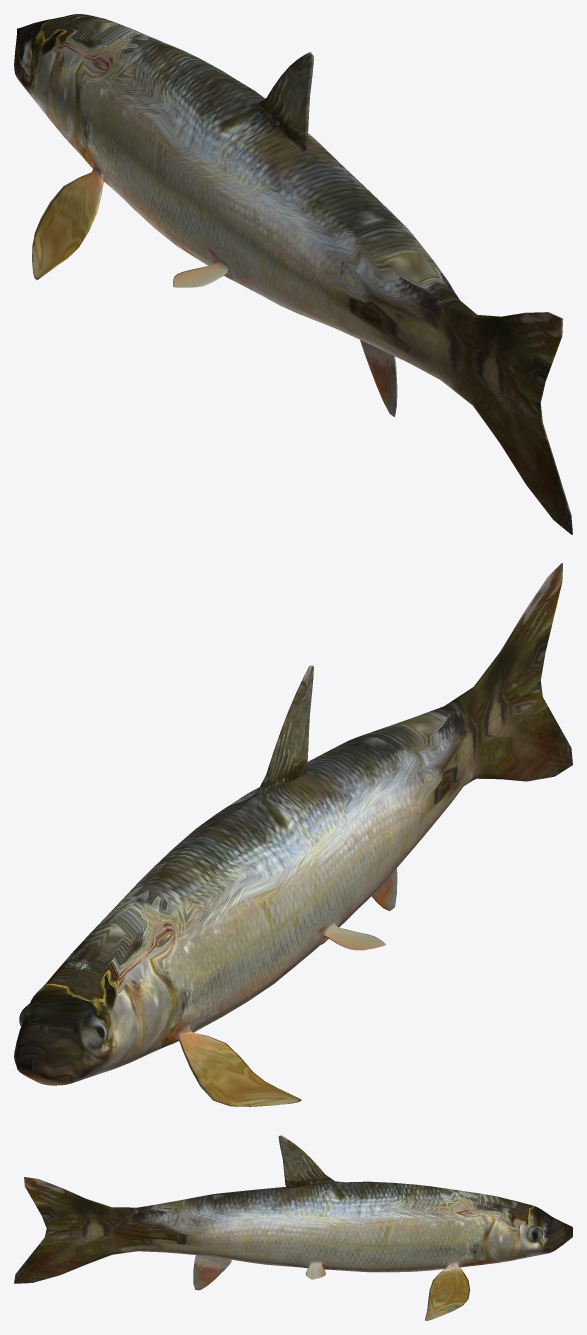
The model's file is ugui_model.fbx.
3 renders of one model, top to bottom at view 1: azimuth 30°, elevation 25°; view 2: azimuth 150°, elevation 25°; view 3: azimuth 270°, elevation 25°, orthographic. The views are drawn at different scales.
Visible parts, largest first — view 1: pCube1; view 2: pCube1; view 3: pCube1.
Part boxes in pixels (x1,y1,x2,y2): pCube1: (14, 14, 572, 534); pCube1: (14, 563, 572, 1106); pCube1: (14, 1135, 572, 1320).
Bounding box in the file's own units: 4.96 × 5.43 × 17.73.
